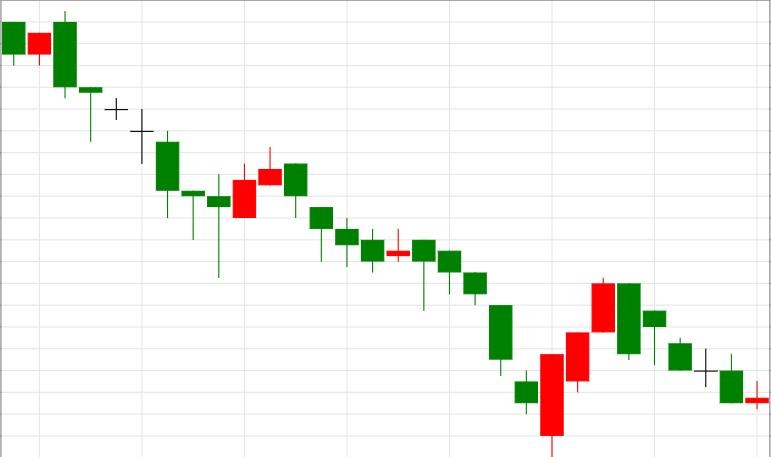bullish_engulfing_rise: (284, 163, 564, 457)
